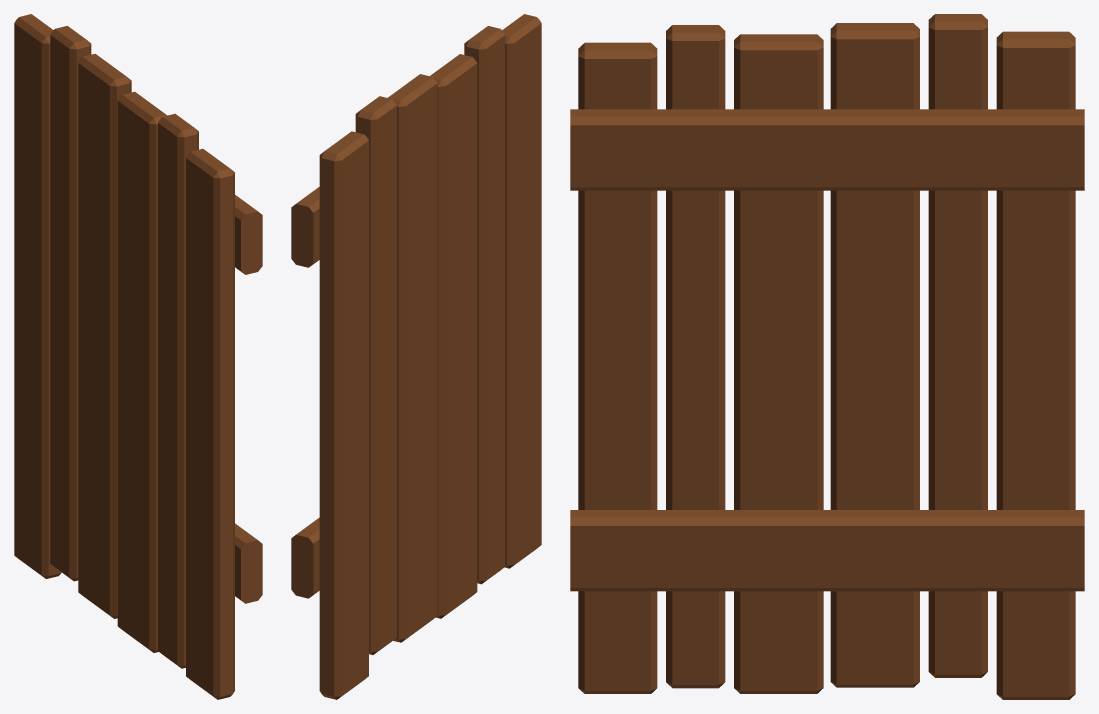
Rendered from ww_fence_b.glb.
3 renders of one model, left to right at view 1: azimuth 30°, elevation 25°; view 2: azimuth 150°, elevation 25°; view 3: azimuth 270°, elevation 25°, orthographic. The views are drawn at different scales.
Parts seen in each view (by area): view 1: Fence_B; view 2: Fence_B; view 3: Fence_B.
Boxes of the visible parts, x1=… form: Fence_B: x1=14, y1=14, x2=262, y2=699; Fence_B: x1=291, y1=14, x2=541, y2=699; Fence_B: x1=570, y1=14, x2=1084, y2=699.
Bounding box in the file's own units: 0.1794 × 2.18 × 1.5.
